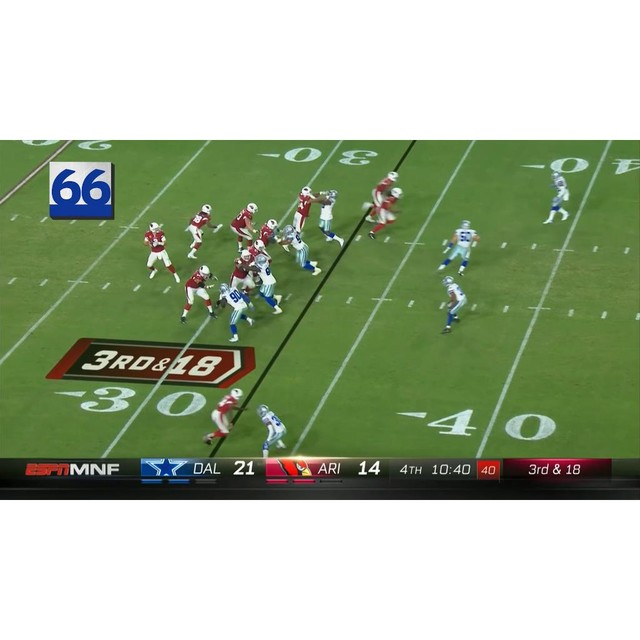american-football-player: (437, 219, 479, 277), (202, 389, 244, 445), (143, 222, 180, 284), (217, 282, 255, 341), (180, 265, 218, 323), (280, 224, 321, 275), (185, 204, 222, 259), (253, 253, 285, 313), (368, 188, 404, 240), (365, 171, 400, 221), (439, 274, 467, 335), (257, 403, 287, 457), (317, 189, 345, 245), (543, 168, 571, 224), (230, 202, 259, 252), (229, 249, 256, 296), (292, 187, 316, 235), (255, 219, 281, 250)
